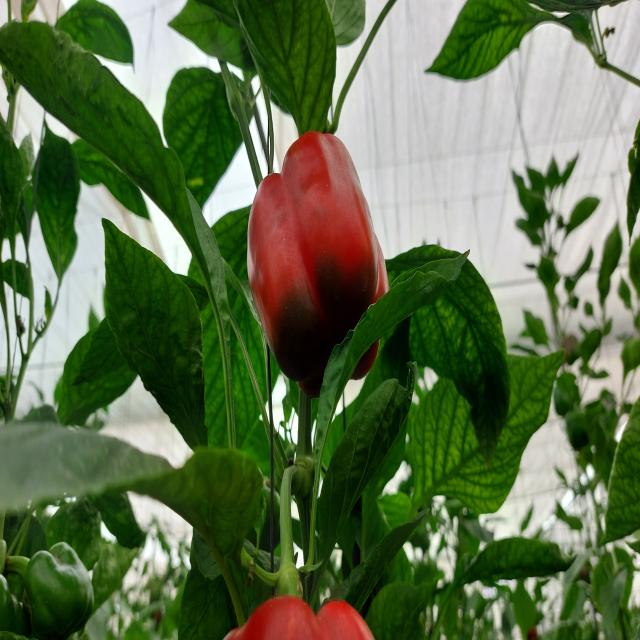Red-Ready-to-Harvest: (241, 119, 390, 405)
